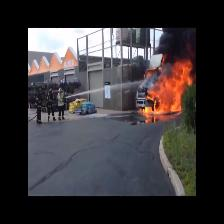fire: (150, 68, 190, 114)
smoke: (163, 29, 196, 53)
